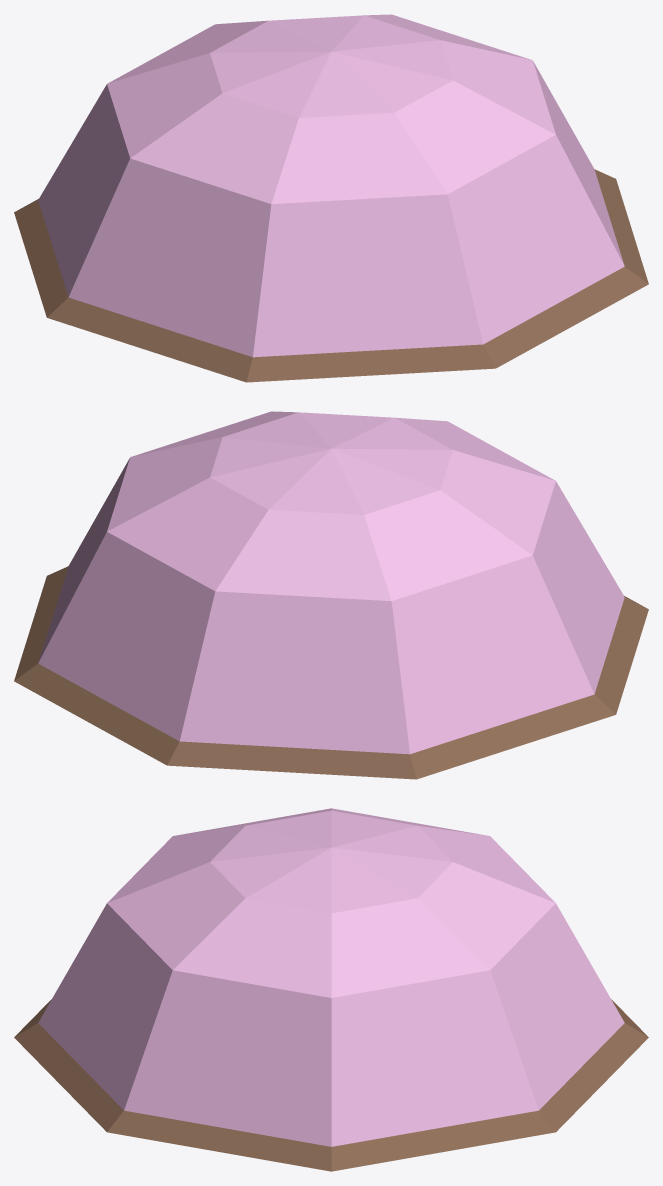
File: hillPink.fbx
The picture shows the model from 3 angles, top to bottom: view 1: azimuth 30°, elevation 25°; view 2: azimuth 150°, elevation 25°; view 3: azimuth 270°, elevation 25°; orthographic projection. The views are drawn at different scales.
Visible parts, largest first — view 1: HillPink; view 2: HillPink; view 3: HillPink.
Part boxes in pixels (x1,y1,x2,y2): HillPink: (14,14,648,382); HillPink: (14,411,648,779); HillPink: (14,808,648,1171).
Size of the model in its own units: 459 by 151 by 459.
3 materials, 3 textured.
